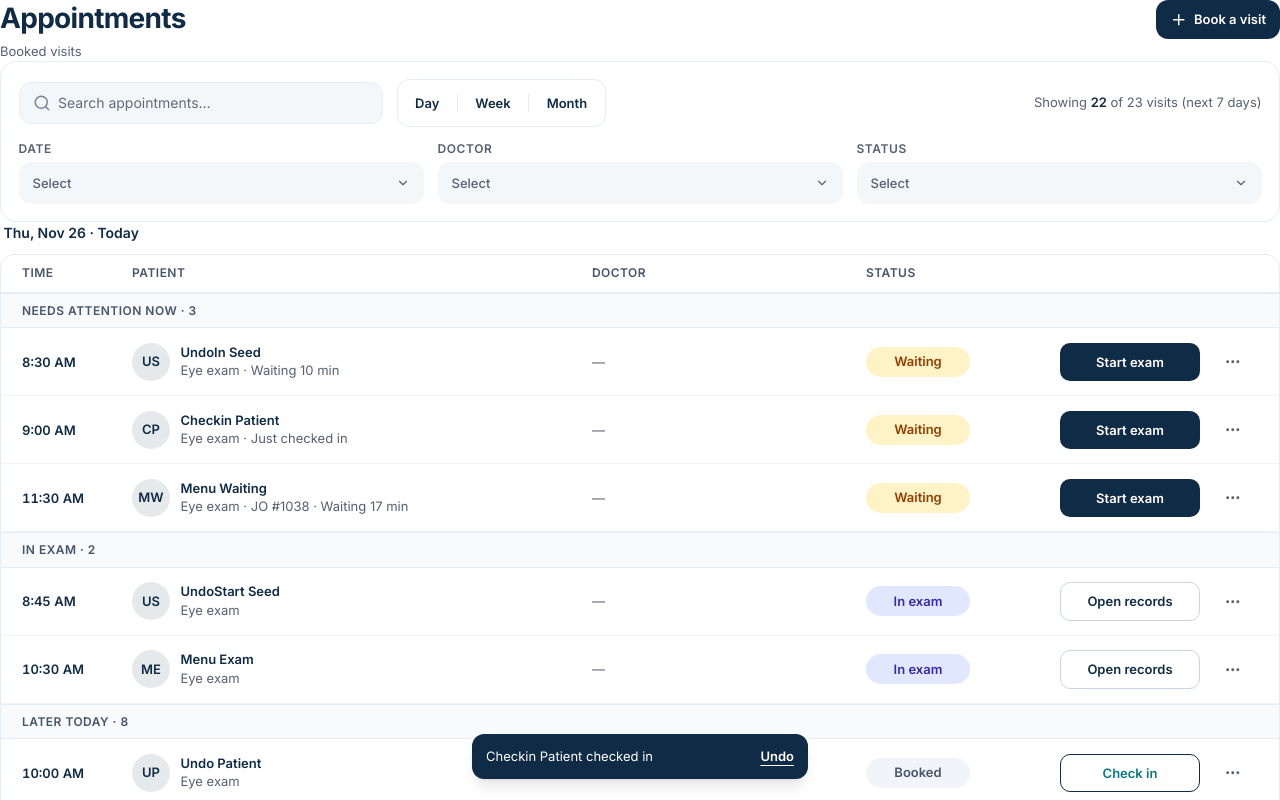
Test: Appointments (staff) › Undo takes a check-in back
The width and height of the screenshot is (1280, 800).
Click the button "Check in": (1130, 773) [1060, 754, 1200, 792]
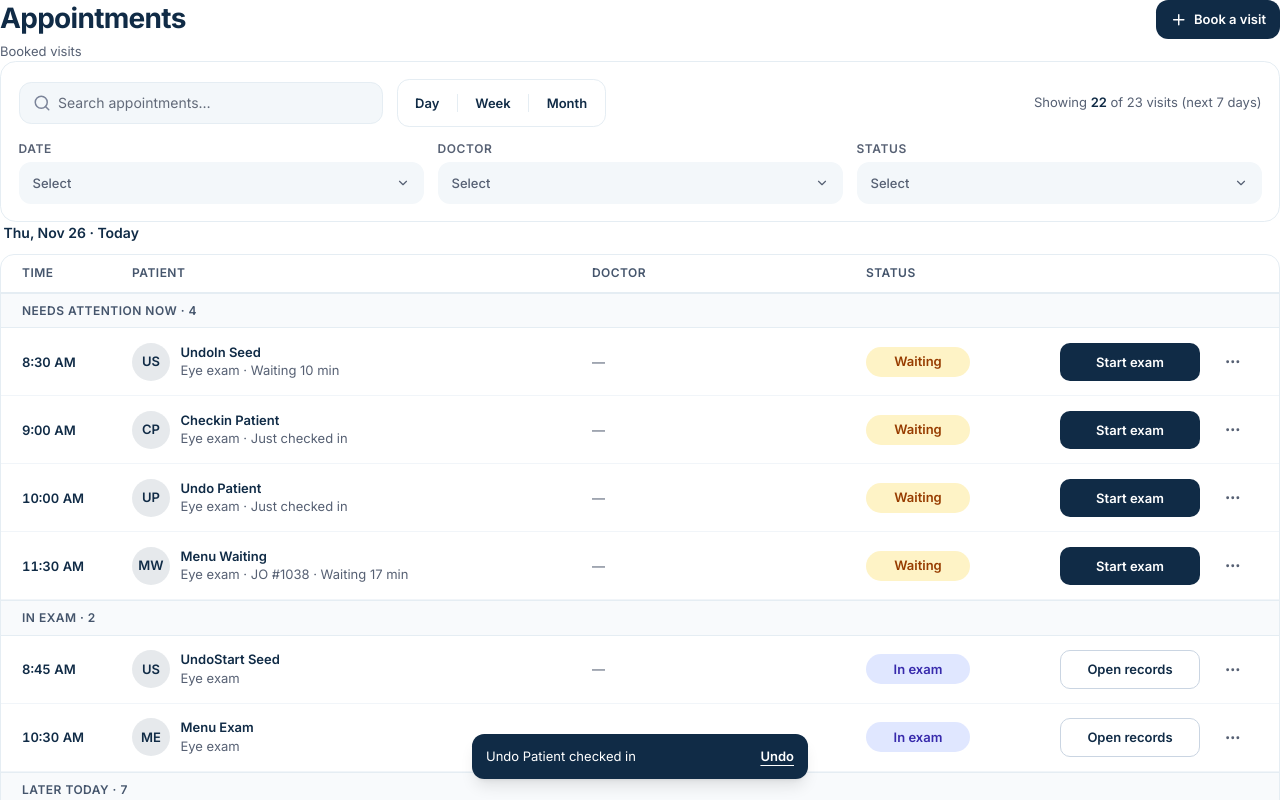
Now the message shows "Undo Patient checked in", box [486, 748, 636, 764]
Click the button "Undo": (777, 756) [753, 737, 801, 776]
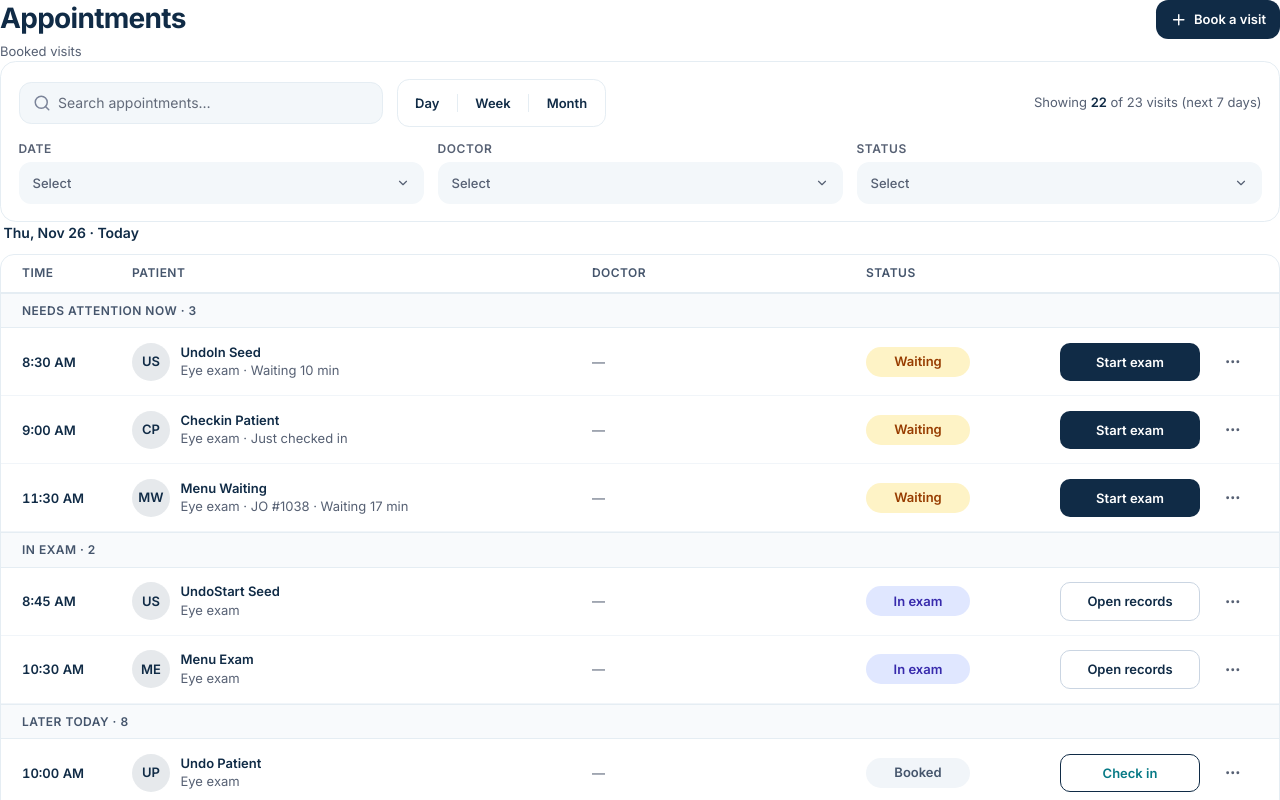
Now the text "Booked" is shown, box [866, 758, 970, 788]
Now the button "Check in" is shown, box [1060, 754, 1200, 792]
